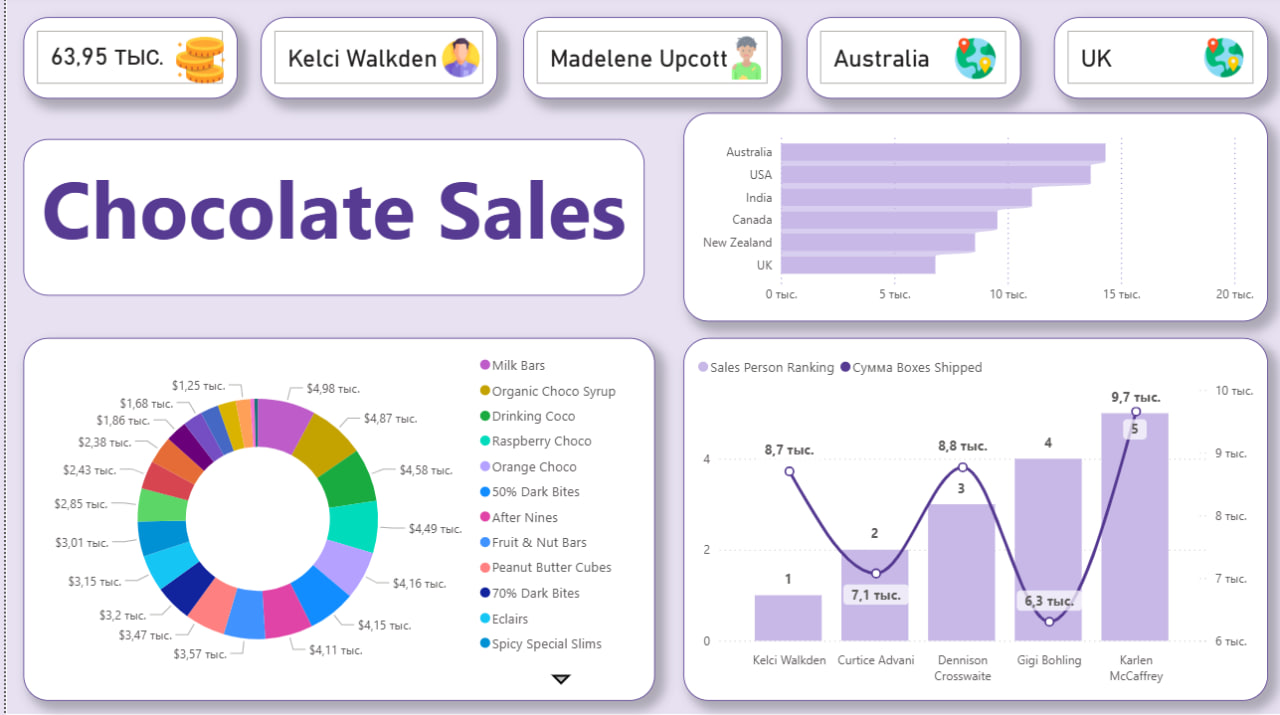

What the dashboard file says about the page in this screenshot:
{"tool":"powerbi","page":{"name":"Страница 1","canvas":[1280,720],"ordinal":0},"visuals":[{"type":"cardVisual","fields":{"Data":["Chocolate.Amount"]},"box":[18,21.5,214.6,81.7],"z":0},{"type":"cardVisual","fields":{"Data":["Chocolate.Best Sales Person"]},"box":[255,21.5,237,81.7],"z":1000},{"type":"cardVisual","fields":{"Data":["Chocolate.Worst Sales Person"]},"box":[518,21.5,259.5,81.7],"z":2000},{"type":"cardVisual","fields":{"Data":["Chocolate.Best Country"]},"box":[800.8,21.5,214.6,81.7],"z":3000},{"type":"cardVisual","fields":{"Data":["Chocolate.Worst Country"]},"box":[1048.6,21.5,214.6,81.7],"z":4000},{"type":"image","box":[417.5,37.7,74.5,49.4],"z":5000},{"type":"image","box":[937.3,36.8,66.4,50.3],"z":6000},{"type":"image","box":[157.1,35,75.4,58.4],"z":7000},{"type":"image","box":[703.8,35,73.6,54.8],"z":8000},{"type":"image","box":[1183.2,37.7,70.9,49.4],"z":9000},{"type":"barChart","fields":{"Category":["Chocolate.Country"],"Y":["Chocolate.Amount"]},"box":[678,116.9,584.7,209],"z":10000},{"type":"lineStackedColumnComboChart","fields":{"Category":["Chocolate.Sales Person"],"Y":["Chocolate.Sales Person Ranking"],"Y2":["Chocolate.Boxes Shipped"]},"box":[678,342.1,584.7,363.2],"z":11000},{"type":"donutChart","fields":{"Category":["Chocolate.Product"],"Y":["Chocolate.Amount"]},"box":[17.4,342.1,631.9,363.2],"z":12000},{"type":"textbox","box":[17.4,143.1,622,156.7],"z":12001}]}

Visuals, with their boxes in screenshot pixels (x1, y1, x2, y2), scaled from the page's 1280x720 canvas onto the 1280x715 screenshot:
cardVisual - Chocolate.Amount: Rect(18, 21, 233, 102)
cardVisual - Chocolate.Best Sales Person: Rect(255, 21, 492, 102)
cardVisual - Chocolate.Worst Sales Person: Rect(518, 21, 778, 102)
cardVisual - Chocolate.Best Country: Rect(801, 21, 1015, 102)
cardVisual - Chocolate.Worst Country: Rect(1049, 21, 1263, 102)
image: Rect(418, 37, 492, 86)
image: Rect(937, 37, 1004, 86)
image: Rect(157, 35, 232, 93)
image: Rect(704, 35, 777, 89)
image: Rect(1183, 37, 1254, 86)
barChart - Chocolate.Country x Chocolate.Amount: Rect(678, 116, 1263, 324)
lineStackedColumnComboChart - Chocolate.Sales Person x Chocolate.Sales Person Ranking: Rect(678, 340, 1263, 700)
donutChart - Chocolate.Product x Chocolate.Amount: Rect(17, 340, 649, 700)
textbox: Rect(17, 142, 639, 298)
